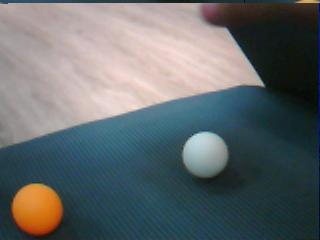oball: (12, 183, 63, 235)
